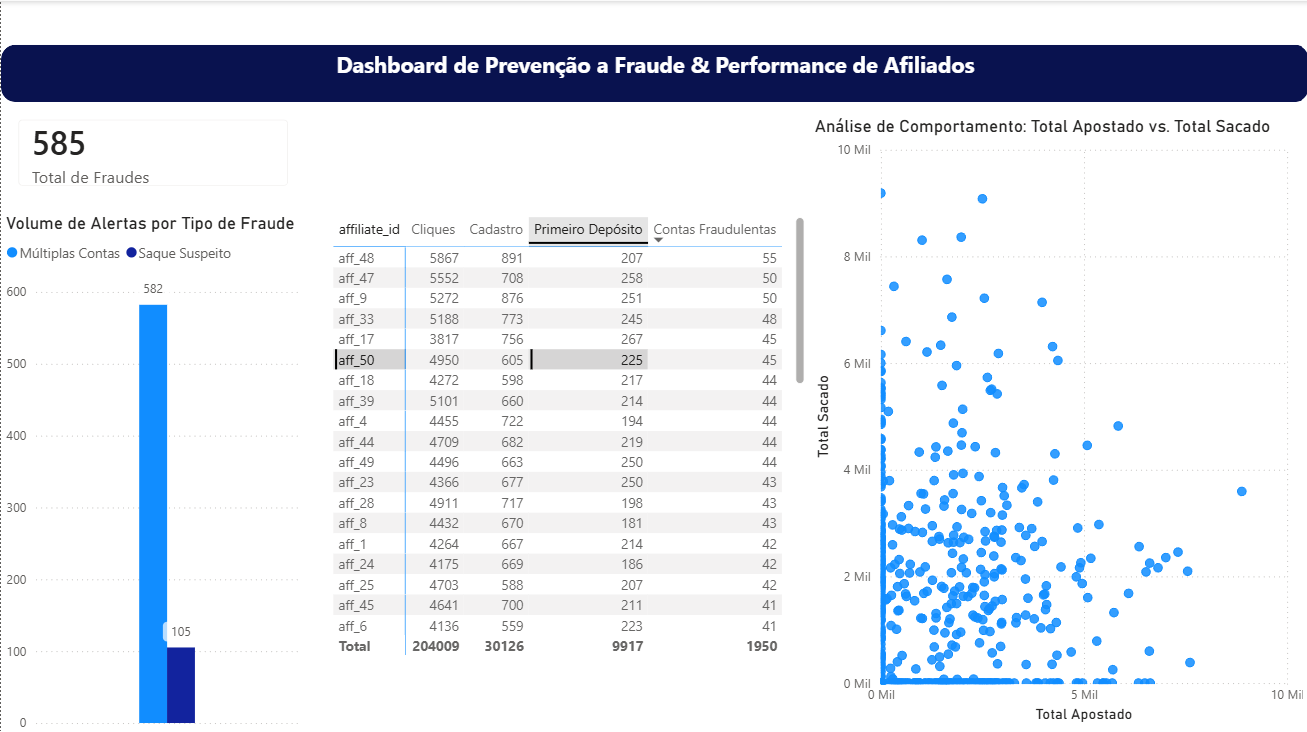

The dashboard page shown, as its layout file describes it:
{"tool":"powerbi","page":{"name":"Página 1","canvas":[1280,720],"ordinal":0},"visuals":[{"type":"cardVisual","fields":{"Data":["Sum(fct_fraud_alerts.is_fraudulent_player)"]},"box":[0,99,298.4,99],"z":0},{"type":"lineClusteredColumnComboChart","title":"Volume de Alertas por Tipo de Fraude","fields":{"Y":["Sum(fct_fraud_alerts.flag_multi_accounting)","Sum(fct_fraud_alerts.flag_suspicious_withdrawal)"]},"box":[0,206.7,298.4,513.6],"z":1},{"type":"pivotTable","fields":{"Rows":["fct_affiliate_marketing_performance.affiliate_id"],"Values":["Sum(fct_affiliate_marketing_performance.total_clicks)","Sum(fct_affiliate_marketing_performance.total_registrations)","Sum(fct_affiliate_marketing_performance.total_ftd)","Sum(fct_affiliate_marketing_performance.total_fraudulent_players_brought)"]},"box":[320.4,206.7,470.8,439],"z":2},{"type":"scatterChart","title":"Análise de Comportamento: Total Apostado vs. Total Sacado","fields":{"X":["Sum(fct_fraud_alerts.total_bet_amount)"],"Y":["Sum(fct_fraud_alerts.total_withdrawn_amount)"],"Category":["fct_fraud_alerts.player_id"]},"box":[791.1,112.1,489.2,598.7],"z":3},{"type":"shape","box":[0,43.3,1280.3,56.1],"z":4},{"type":"textbox","box":[0,43.3,1280.3,56.1],"z":5}]}

Visuals, with their boxes in screenshot pixels (x1, y1, x2, y2), scaled from the page's 1280x720 canvas onto the 1307x732 screenshot:
cardVisual - Sum(fct_fraud_alerts.is_fraudulent_player): crop(0, 101, 305, 201)
"Volume de Alertas por Tipo de Fraude" lineClusteredColumnComboChart: crop(0, 210, 305, 731)
pivotTable - fct_affiliate_marketing_performance.affiliate_id x Sum(fct_affiliate_marketing_performance.total_clicks): crop(327, 210, 808, 656)
"Análise de Comportamento: Total Apostado vs. Total Sacado" scatterChart: crop(808, 114, 1306, 723)
shape: crop(0, 44, 1306, 101)
textbox: crop(0, 44, 1306, 101)
